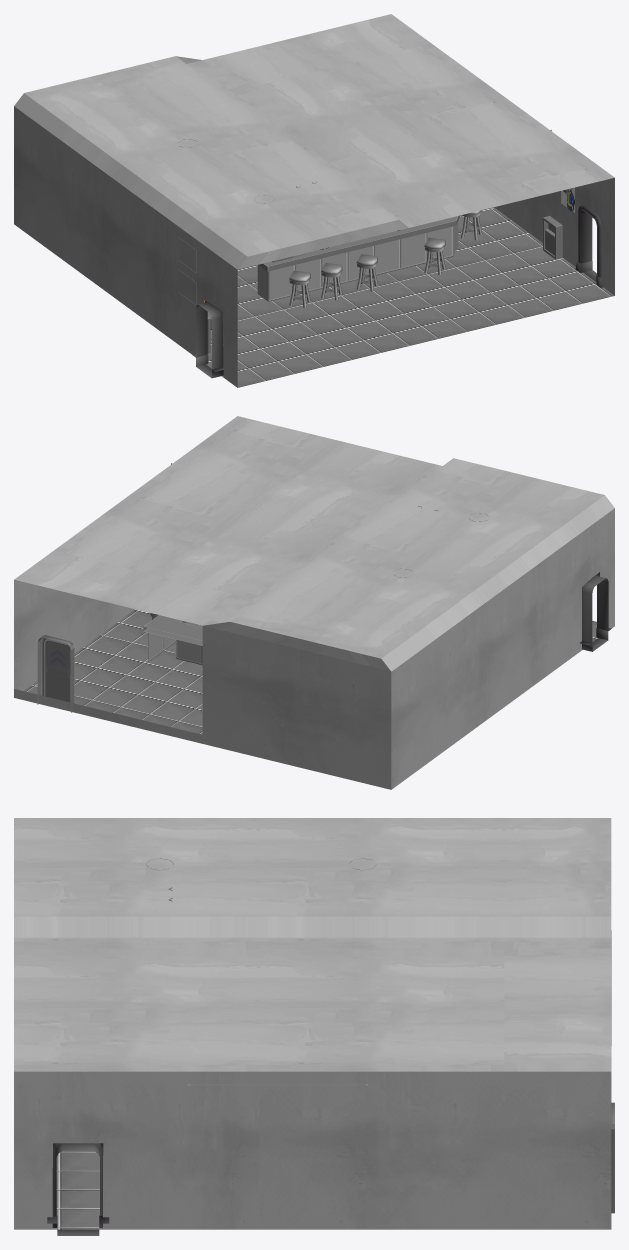
Rendered from MSH_Bar_room_L2_R2.fbx.
3 renders of one model, top to bottom at view 1: azimuth 30°, elevation 25°; view 2: azimuth 150°, elevation 25°; view 3: azimuth 270°, elevation 25°, orthographic. The views are drawn at different scales.
Parts seen in each view (by area): view 1: MSH_Bar_room_L2_R2_Walls, MSH_Bar_room_L2_R2 1, MSH_Bar_room_L2_R2_lights; view 2: MSH_Bar_room_L2_R2_Walls, MSH_Bar_room_L2_R2 1, MSH_Bar_room_L2_R2_lights; view 3: MSH_Bar_room_L2_R2_Walls, MSH_Bar_room_L2_R2 1, MSH_Bar_room_L2_R2_lights.
Part boxes in pixels (x1,y1,x2,y2): MSH_Bar_room_L2_R2_Walls: (14,14,614,387); MSH_Bar_room_L2_R2 1: (178,129,575,353); MSH_Bar_room_L2_R2_lights: (196,211,596,378); MSH_Bar_room_L2_R2_Walls: (14,416,614,789); MSH_Bar_room_L2_R2 1: (37,463,573,712); MSH_Bar_room_L2_R2_lights: (582,575,608,651); MSH_Bar_room_L2_R2_Walls: (14,818,611,1229); MSH_Bar_room_L2_R2 1: (146,858,614,1213); MSH_Bar_room_L2_R2_lights: (56,1143,99,1235).
Bounding box in the file's own units: 20.61 × 6.42 × 20.24.
